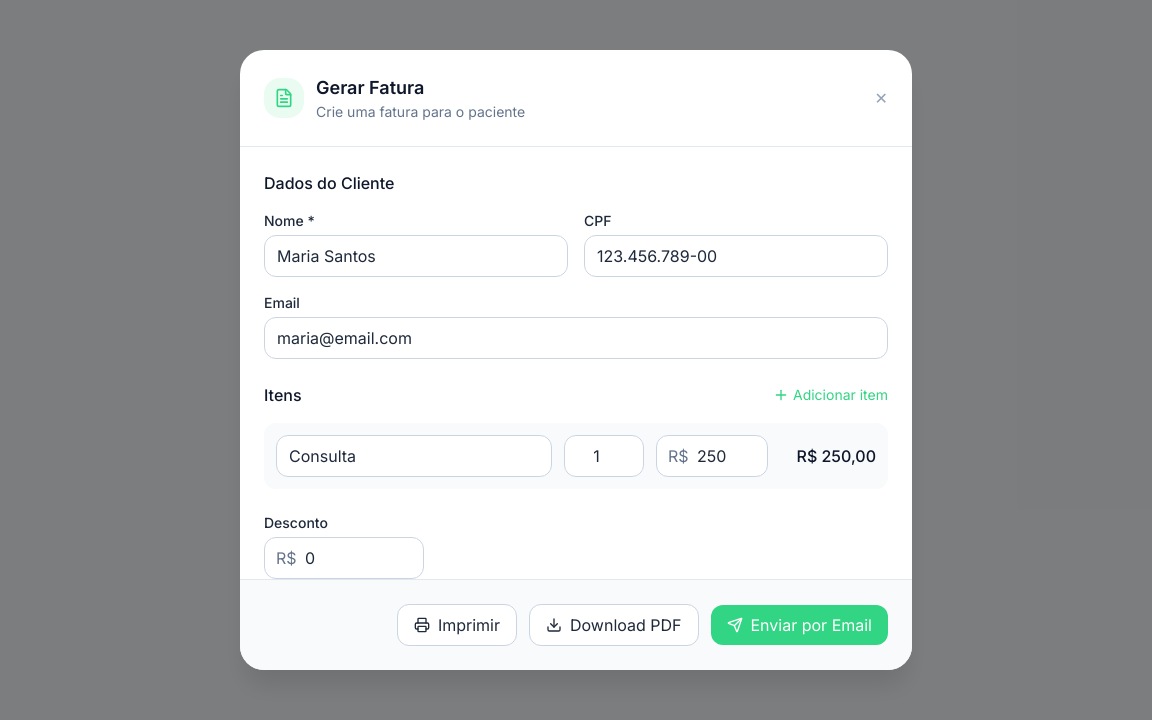
Test case: InvoiceGenerator - Actions › email action › should show loading state when sending
Click the button "Enviar por Email": [799, 625] box [710,605,888,645]
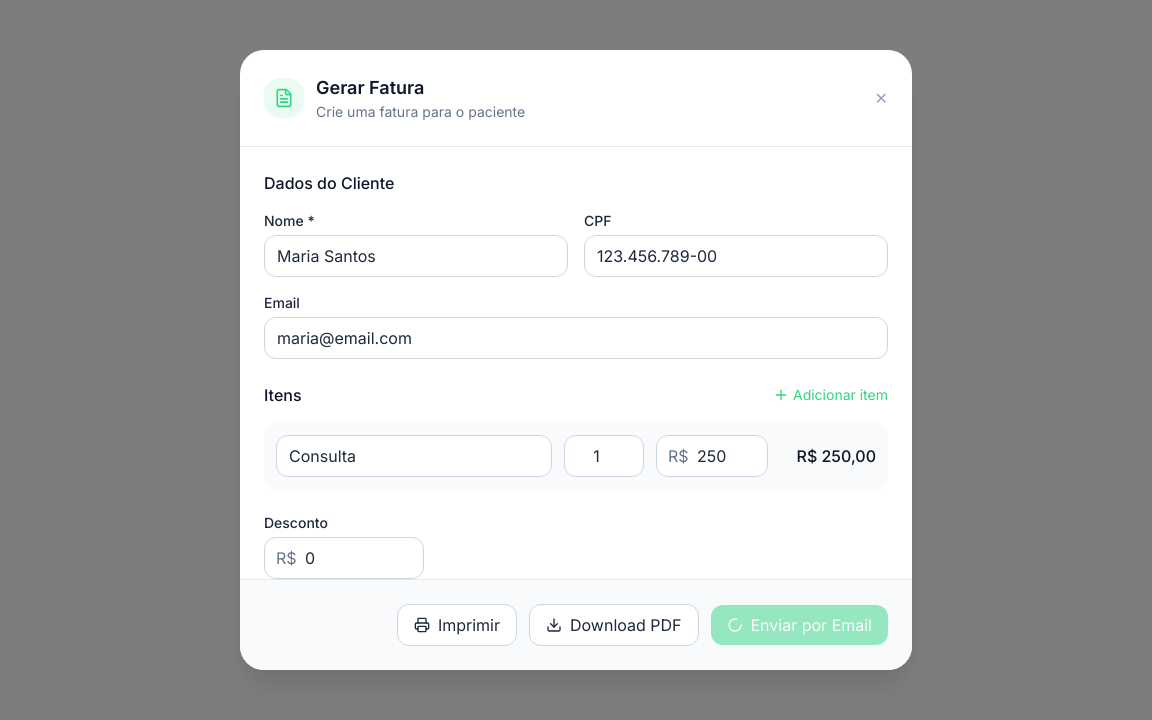
Check: the button "Enviar por Email" is disabled, box [710,605,888,645]
